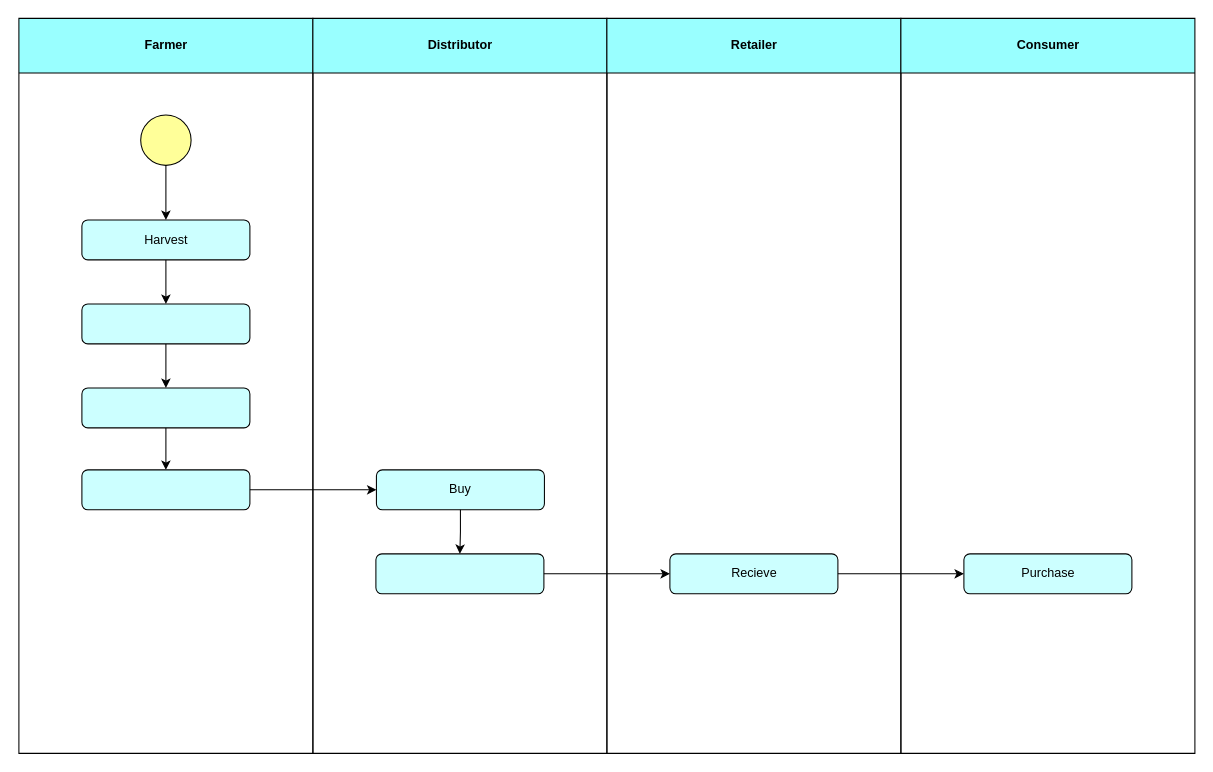
Image size: 1213x772. Some labels were removed from this diagram. The shapes that lost their labels are listed below. From the top down, each one's centre as x and y in pixels, then its label:
point 165,323: Process
point 165,407: Pack
point 165,489: Sell
point 459,573: Ship
